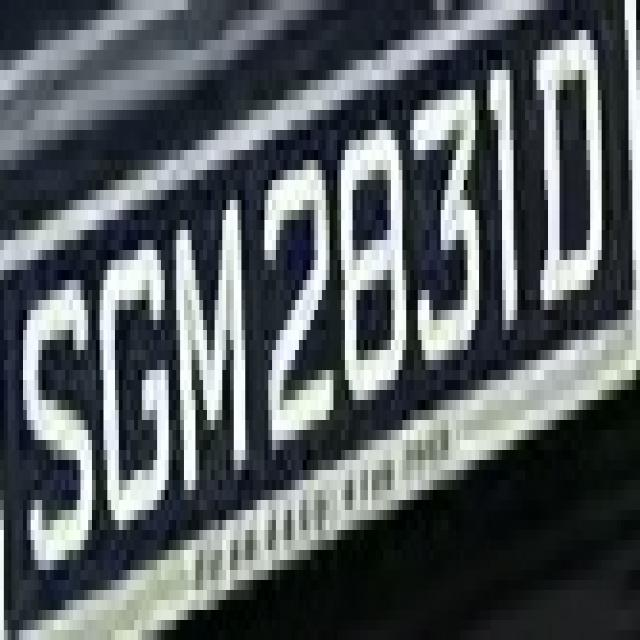1: (483, 10, 517, 350)
2: (260, 150, 334, 490)
3: (406, 70, 483, 380)
8: (326, 90, 414, 430)
D: (529, 10, 613, 320)
G: (88, 220, 176, 550)
M: (168, 170, 256, 500)
S: (15, 240, 96, 580)
